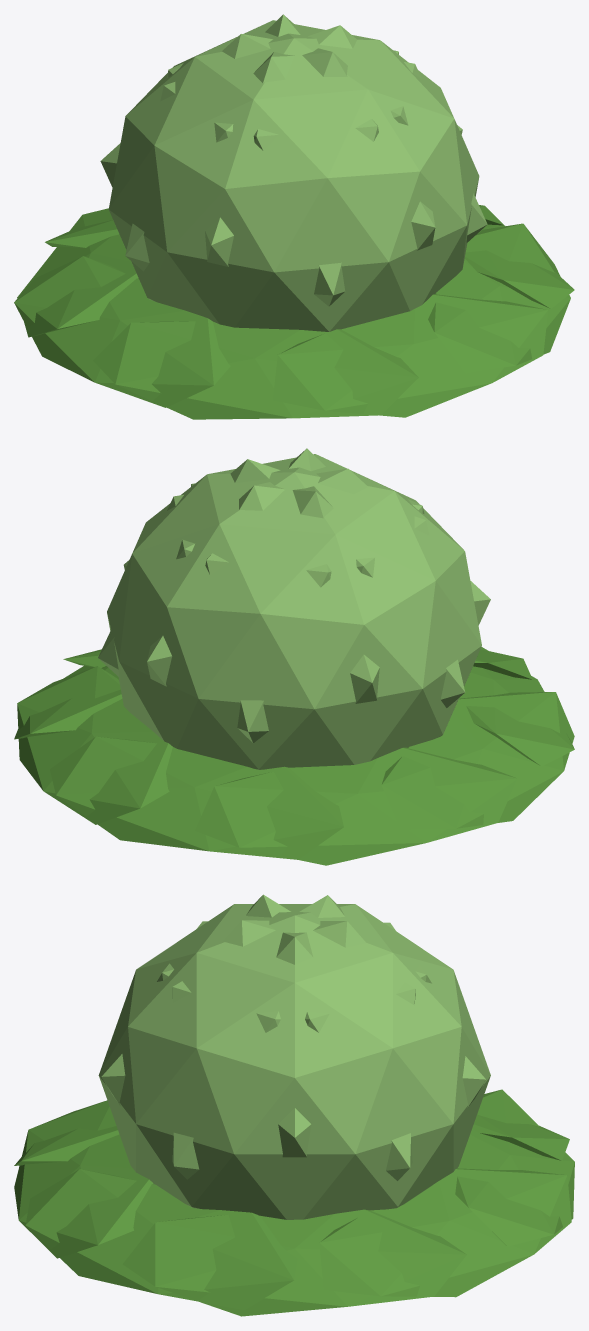
The model's file is ekin_lahana.glb.
3 renders of one model, top to bottom at view 1: azimuth 30°, elevation 25°; view 2: azimuth 150°, elevation 25°; view 3: azimuth 270°, elevation 25°, orthographic. The views are drawn at different scales.
Parts seen in each view (by area): view 1: M_Kat; view 2: M_Kat; view 3: M_Kat.
Boxes of the visible parts, x1,y1,x2,y2 form: M_Kat: (14, 14, 574, 419); M_Kat: (14, 448, 574, 865); M_Kat: (14, 894, 574, 1316).
Bounding box in the file's own units: 0.1605 × 0.102 × 0.1602.
